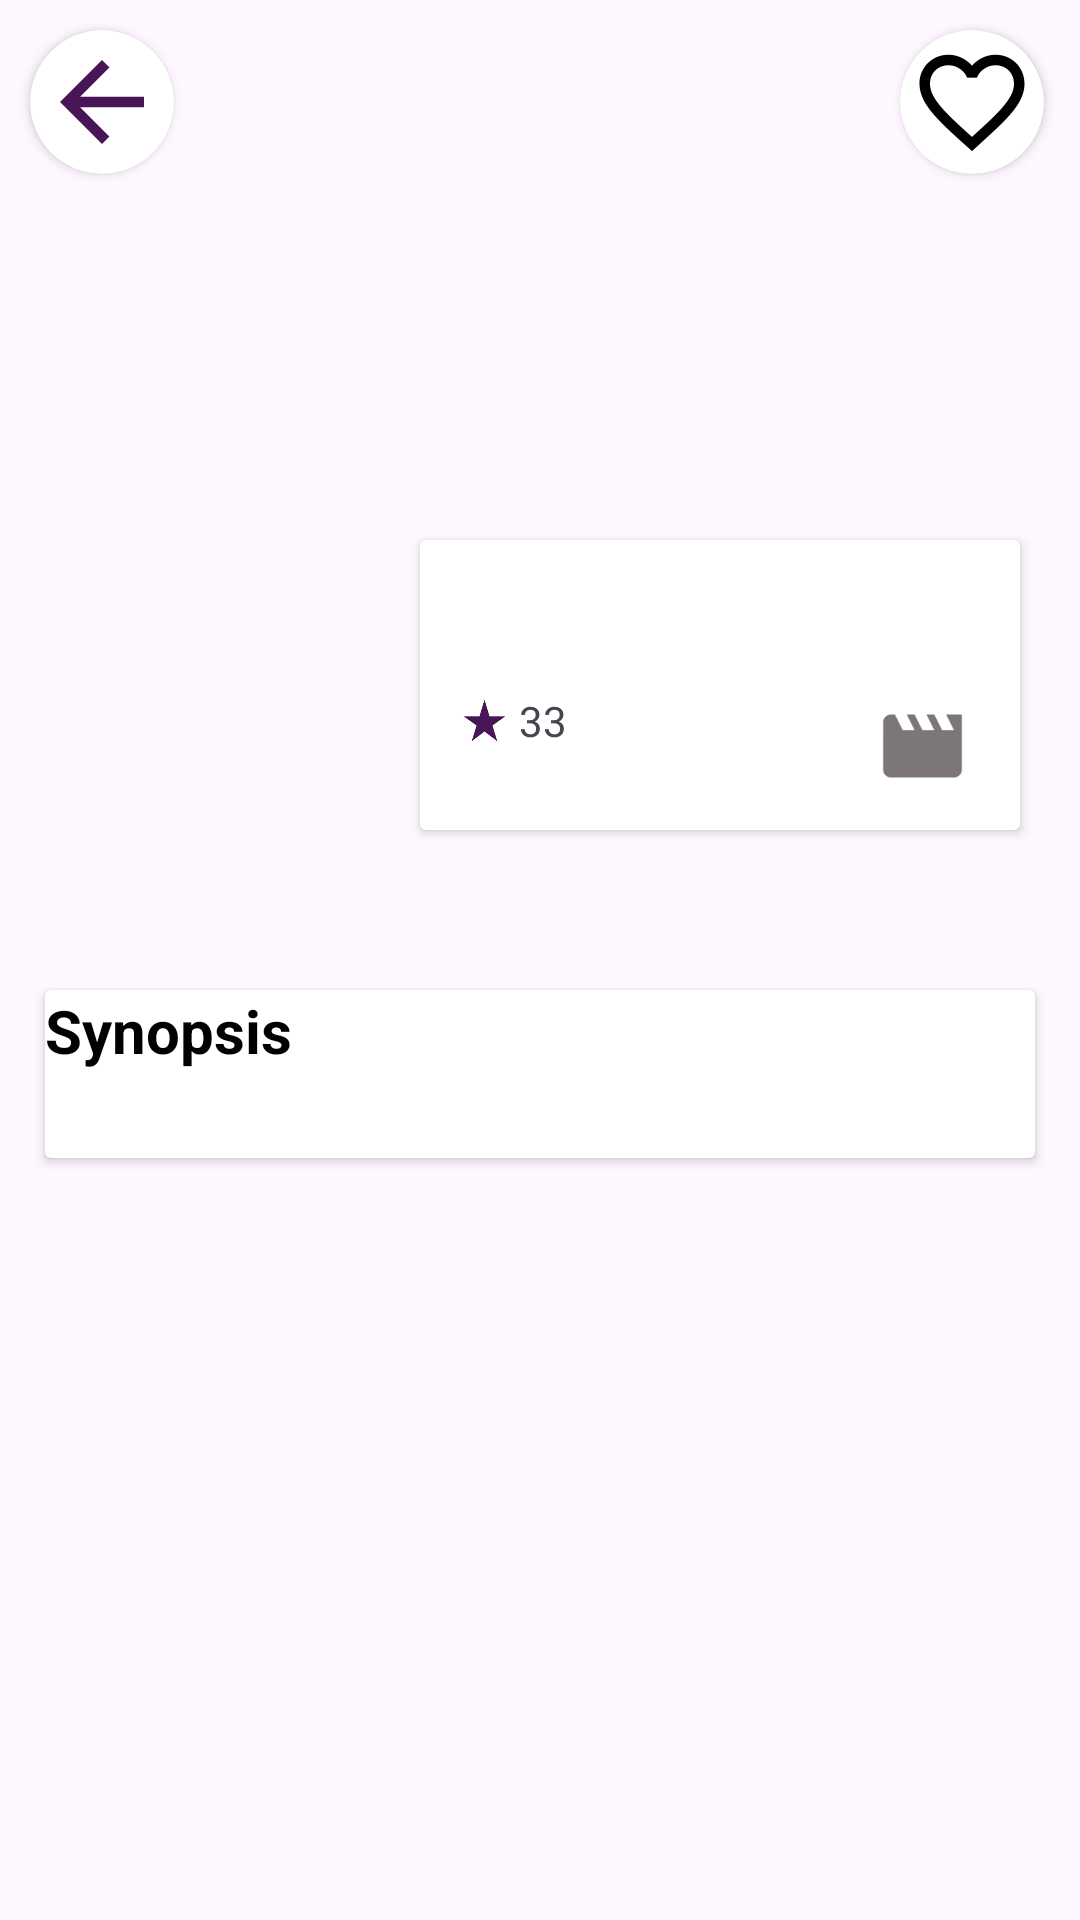

Named icons in this screenshot (1080 x 1920) and their centers, point (x, y):
back: point (102, 102)
love: point (972, 102)
movie populer: point (922, 746)
rate: point (484, 720)
